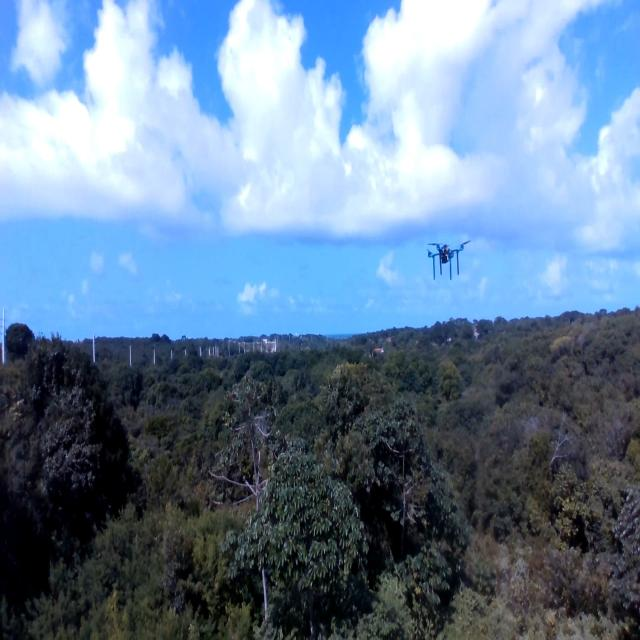-uav-: (419, 229, 475, 288)
